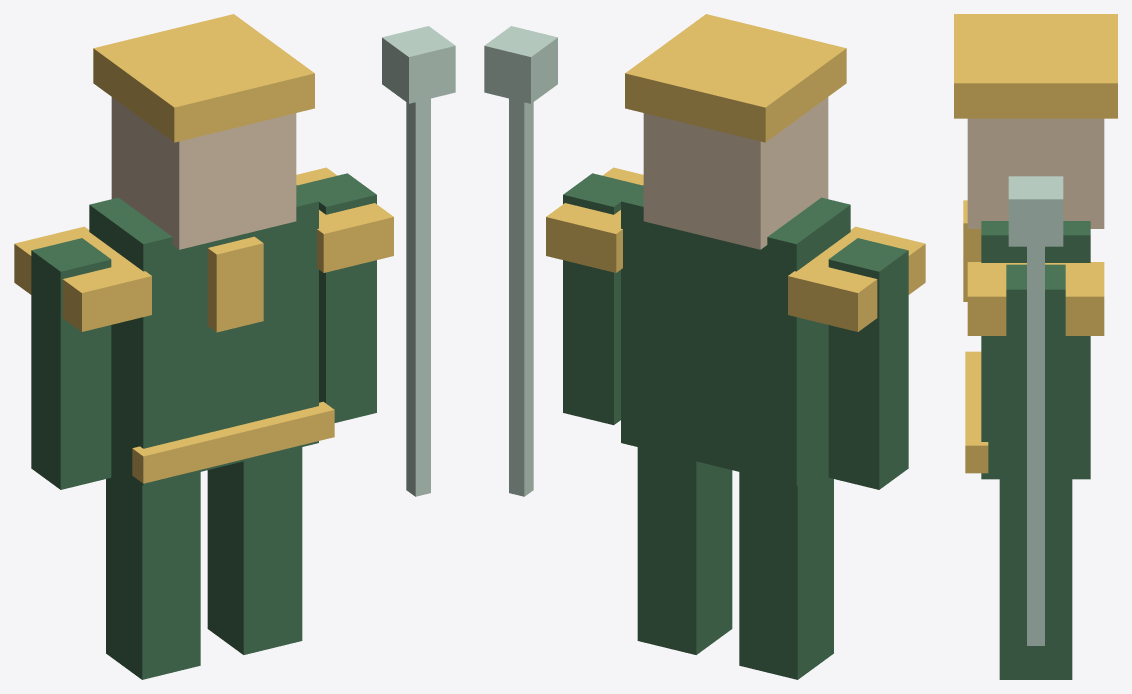
The model's file is 11_noor_cragwarden_smith_of.glb.
The picture shows the model from 3 angles, left to right: view 1: azimuth 30°, elevation 25°; view 2: azimuth 150°, elevation 25°; view 3: azimuth 270°, elevation 25°; orthographic projection.
Parts seen in each view (by area): view 1: Noor Cragwarden, Smith of; view 2: Noor Cragwarden, Smith of; view 3: Noor Cragwarden, Smith of.
Boxes of the visible parts, box(x1,y1,x2,y2) form: Noor Cragwarden, Smith of: box(14, 14, 455, 679); Noor Cragwarden, Smith of: box(484, 14, 925, 679); Noor Cragwarden, Smith of: box(954, 14, 1117, 679).
Bounding box in the file's own units: 1.11 × 1.56 × 0.3921.
